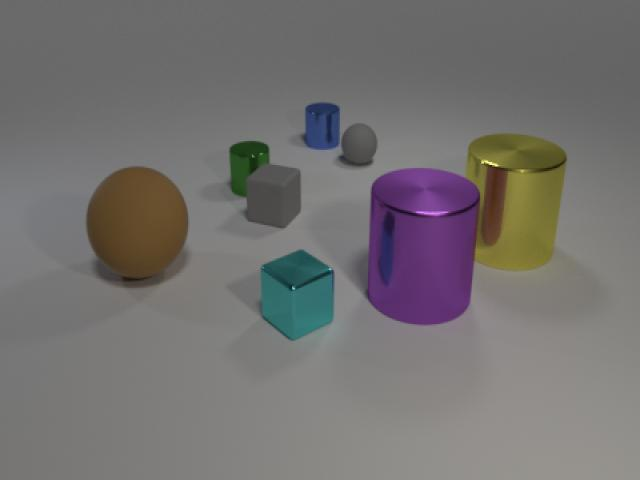cylinder: (362, 160, 481, 331), (461, 129, 574, 277), (224, 136, 276, 199), (302, 99, 344, 151)
round ball: (83, 160, 191, 286), (339, 119, 382, 169)
